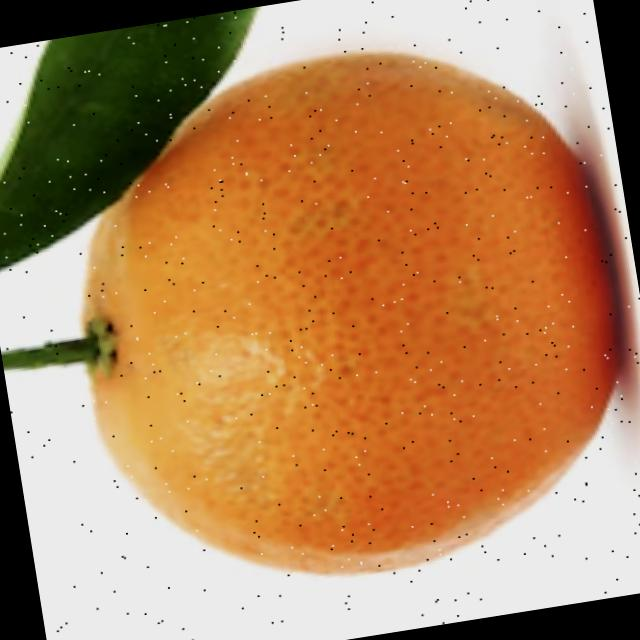orange: (24, 0, 640, 608)
